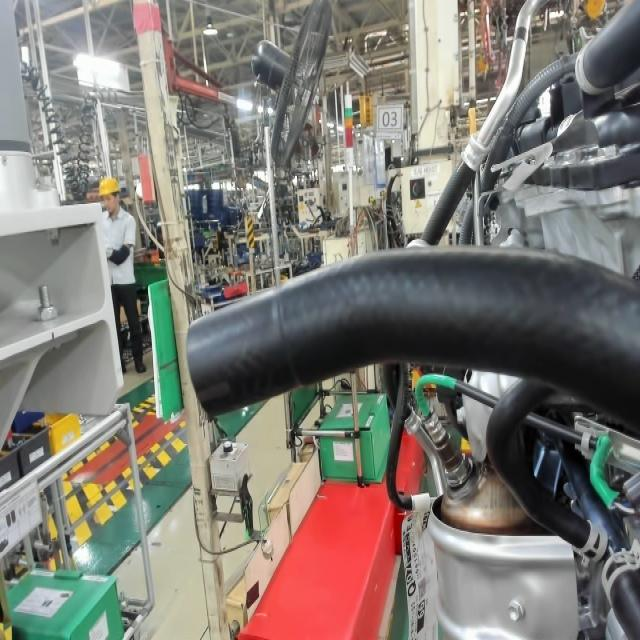Hose Radiator-PC: (194, 366, 238, 419)
